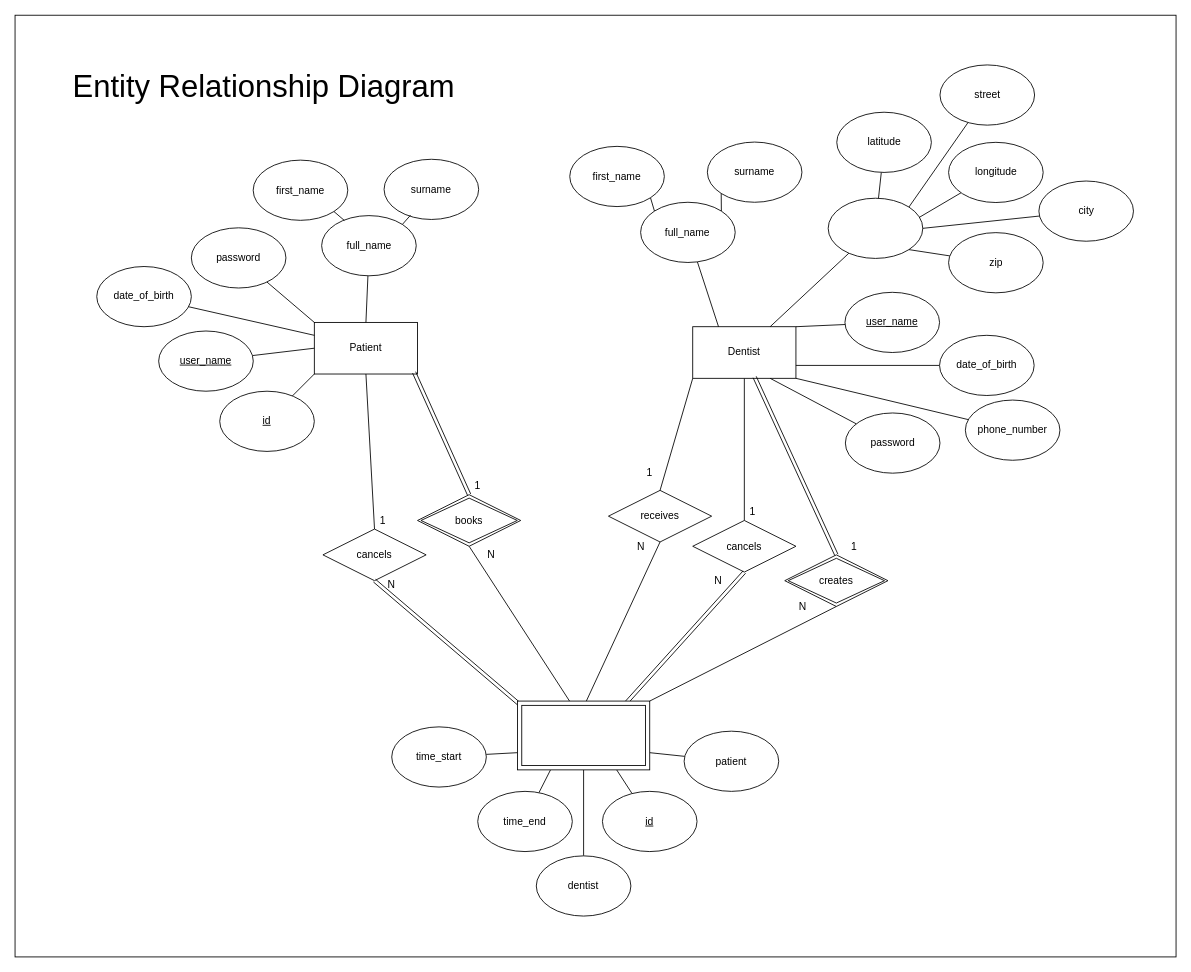
This 1191x972 diagram has some shape labels left out. The centre of each missing label's shape, as x and y in pixels:
"Appointment_slot" belongs at point 583,735.
"clinic_location" belongs at point 875,227.
